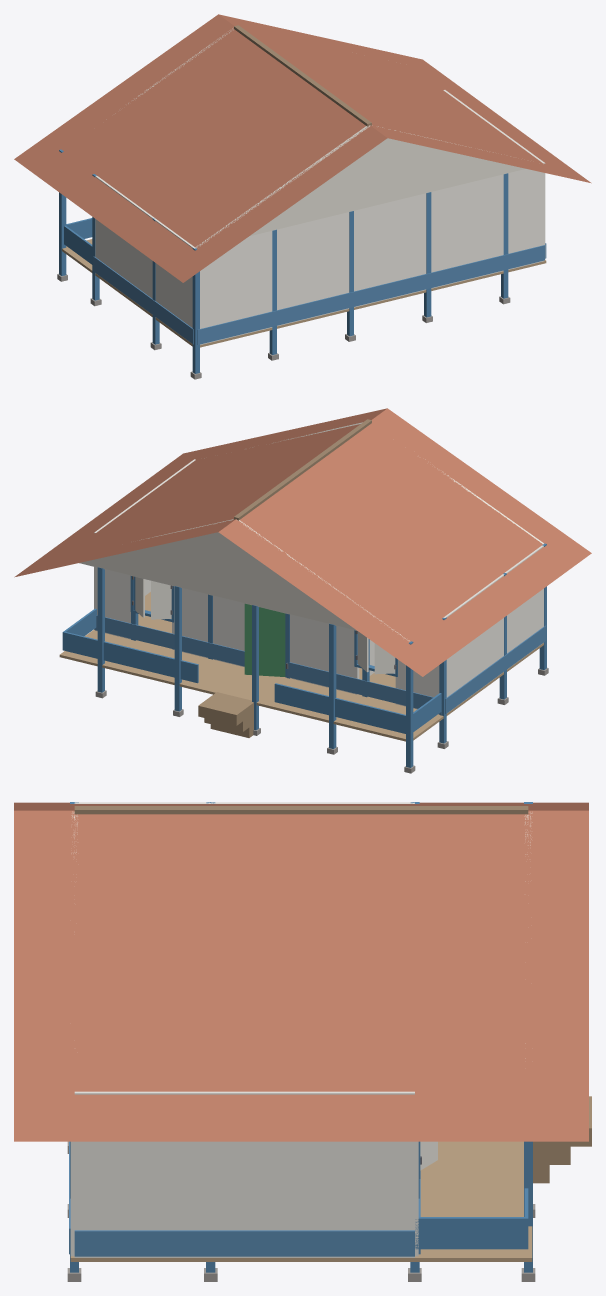
Rendered from RumahPanggungSunda.fbx.
3 renders of one model, top to bottom at view 1: azimuth 30°, elevation 25°; view 2: azimuth 150°, elevation 25°; view 3: azimuth 270°, elevation 25°, orthographic. The views are drawn at different scales.
Parts seen in each view (by area): view 1: AtapGenteng, DindingBilik, PengisiPelana, SkirtingBiru, TiangKolong, LantaiDanTeras, BalokBubungan, PagarTeras, UmpakBatu; view 2: AtapGenteng, DindingBilik, PengisiPelana, LantaiDanTeras, TiangKolong, PagarTeras, SkirtingBiru, PintuDaun, GolodogTangga, BalokBubungan, JendelaDaunKiri.001, BingkaiPintuJendela (+2 smaller); view 3: AtapGenteng, DindingBilik, LantaiDanTeras, SkirtingBiru, BalokBubungan, PagarTeras, GolodogTangga, TiangKolong, UmpakBatu.
Part boxes in pixels (x1,y1,x2,y2): AtapGenteng: (14, 14, 591, 282); DindingBilik: (95, 90, 545, 344); PengisiPelana: (106, 28, 525, 247); SkirtingBiru: (93, 243, 546, 344); TiangKolong: (59, 149, 508, 373); LantaiDanTeras: (62, 239, 546, 347); BalokBubungan: (234, 25, 371, 126); PagarTeras: (64, 218, 92, 264); UmpakBatu: (57, 273, 510, 379); AtapGenteng: (14, 408, 591, 676); DindingBilik: (94, 459, 543, 714); PengisiPelana: (80, 422, 543, 641); LantaiDanTeras: (59, 592, 543, 741); TiangKolong: (97, 543, 546, 767); PagarTeras: (62, 608, 441, 733); SkirtingBiru: (94, 615, 546, 714); PintuDaun: (244, 603, 285, 676); GolodogTangga: (198, 692, 253, 737); BalokBubungan: (234, 419, 371, 520); JendelaDaunKiri.001: (151, 580, 171, 619); BingkaiPintuJendela: (130, 576, 397, 678); AtapGenteng: (14, 802, 588, 1141); DindingBilik: (70, 802, 418, 1257); LantaiDanTeras: (70, 1141, 532, 1261); SkirtingBiru: (69, 1141, 420, 1256); BalokBubungan: (74, 806, 528, 814); PagarTeras: (415, 1188, 528, 1249); GolodogTangga: (533, 1096, 591, 1183); TiangKolong: (70, 802, 532, 1272); UmpakBatu: (67, 1141, 535, 1281).
Bounding box in the file's own units: 1060 × 524 × 764.
